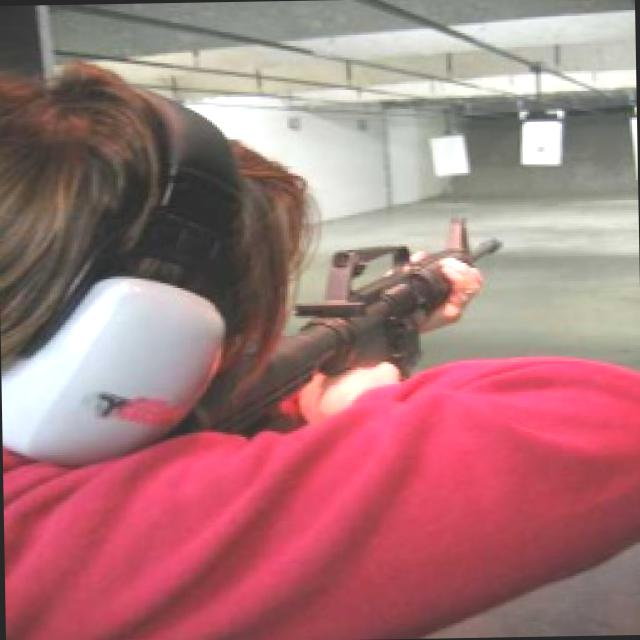long weapon: (249, 189, 528, 410)
